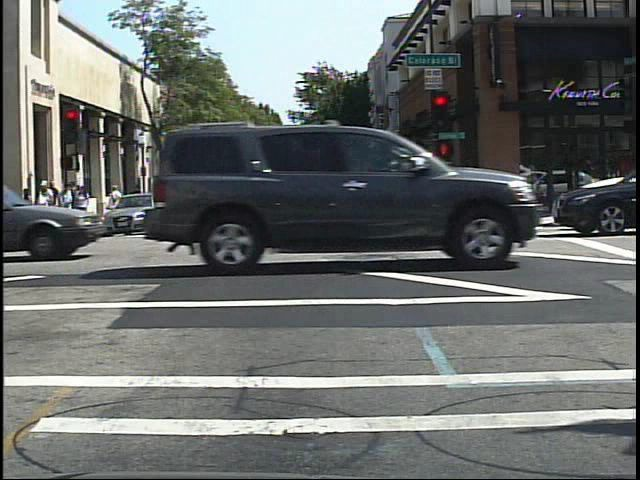person: (107, 180, 127, 227)
